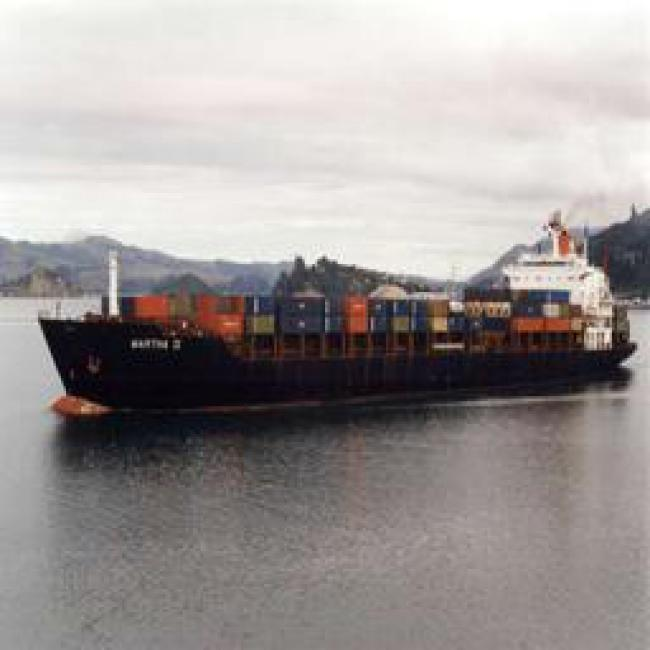Ship: (18, 256, 642, 396)
